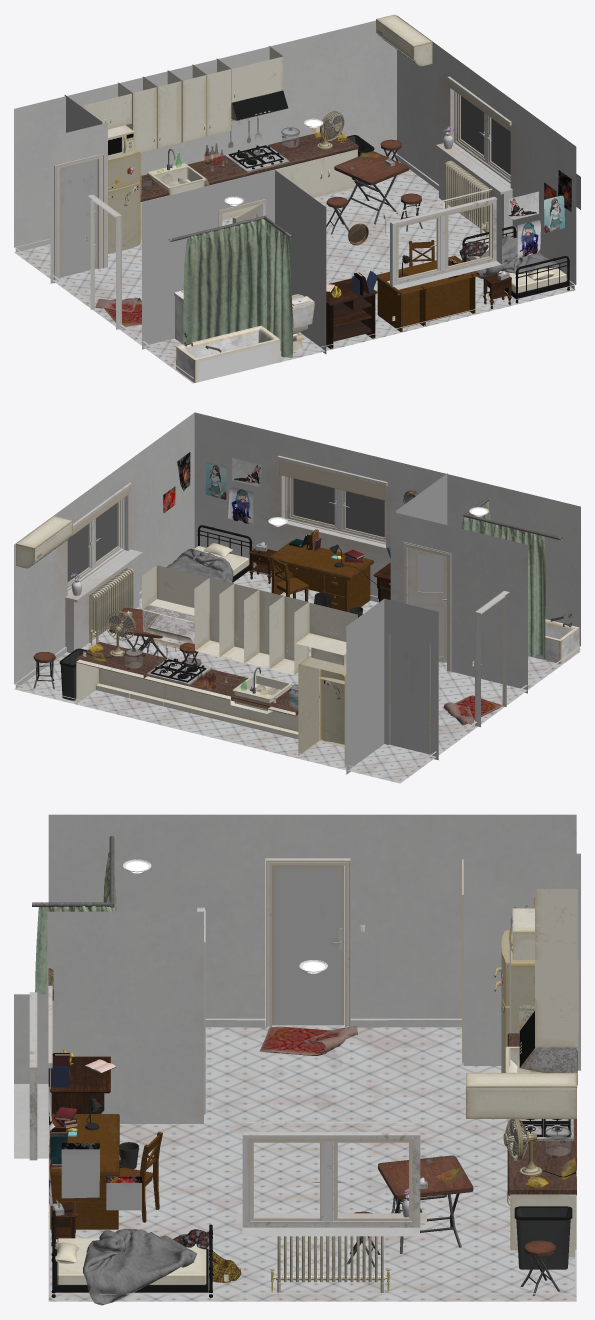
3 views of the same model, one above another, from view 1: azimuth 30°, elevation 25°; view 2: azimuth 150°, elevation 25°; view 3: azimuth 270°, elevation 25° (orthographic). The views are drawn at different scales.
Visible parts, largest first — view 1: Base, bathroom_wall, cabinets, curtain, closet_door, Desk, bathtub, wallCloset, plank, Refrigirator, Drawer, table (+25 smaller); view 2: Base, cabinets, bathroom_wall, wallCloset, closet_door, Refrigirator, Desk, plank, curtain, polySurface16, window_edge, Radiator (+24 smaller); view 3: Base, bathroom_wall, wallCloset, DOOR, cabinets, comforter, AC, polySurface23, Desk, plank, Radiator, table (+25 smaller).
Boxes of the visible parts, <box> form: Base: <box>14,15,576,383</box>; bathroom_wall: <box>142,170,326,354</box>; cabinets: <box>84,46,357,240</box>; curtain: <box>183,219,292,357</box>; closet_door: <box>54,153,104,283</box>; Desk: <box>377,256,479,331</box>; bathtub: <box>176,325,280,382</box>; wallCloset: <box>50,95,107,283</box>; plank: <box>140,130,358,201</box>; Refrigirator: <box>108,149,140,253</box>; Drawer: <box>326,278,377,348</box>; table: <box>334,151,409,224</box>; Base: <box>14,412,580,783</box>; cabinets: <box>76,565,357,739</box>; bathroom_wall: <box>390,473,527,693</box>; wallCloset: <box>346,598,438,774</box>; closet_door: <box>388,633,430,754</box>; Refrigirator: <box>298,656,346,766</box>; Desk: <box>268,540,373,612</box>; plank: <box>76,642,319,716</box>; curtain: <box>462,501,545,658</box>; polySurface16: <box>293,478,384,537</box>; window_edge: <box>65,549,142,652</box>; Radiator: <box>89,568,133,645</box>; Base: <box>14,814,576,1301</box>; bathroom_wall: <box>47,911,203,1123</box>; wallCloset: <box>463,853,580,1070</box>; DOOR: <box>272,865,344,1025</box>; cabinets: <box>510,889,578,1257</box>; comforter: <box>82,1228,196,1305</box>; AC: <box>466,1073,576,1118</box>; polySurface23: <box>242,1132,420,1227</box>; Desk: <box>49,1114,119,1229</box>; plank: <box>507,1033,577,1195</box>; Radiator: <box>269,1236,391,1294</box>; table: <box>378,1155,473,1253</box>.
Size of the model in its own units: 8.48 by 2.95 by 6.95.
6 materials, 6 textured.
